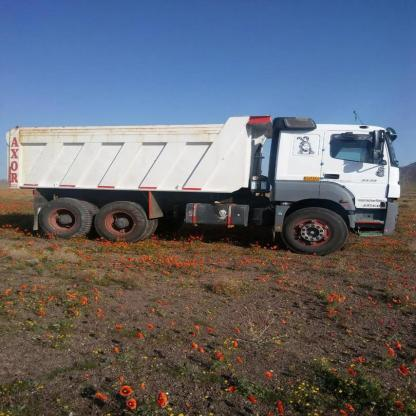Truck: (0, 107, 405, 253)
